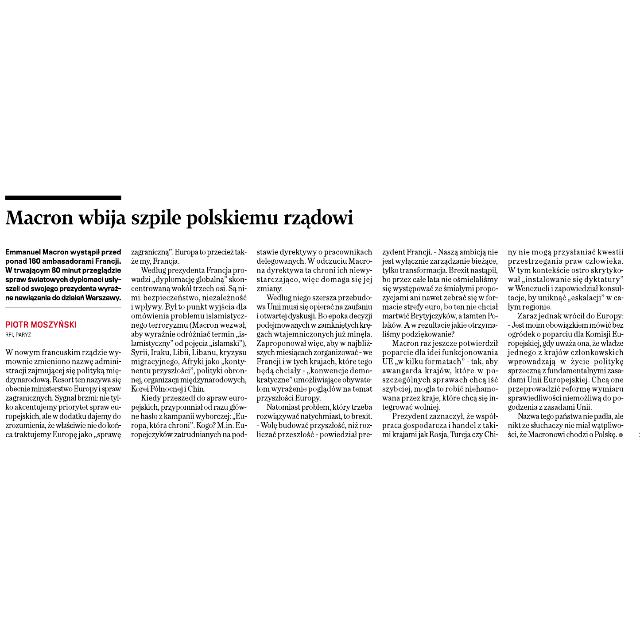author: (2, 317, 80, 331)
body: (506, 245, 628, 441), (378, 245, 499, 441), (129, 245, 249, 441), (254, 246, 374, 442), (4, 348, 124, 442)
lead: (2, 246, 124, 304)
title: (4, 204, 360, 232)
